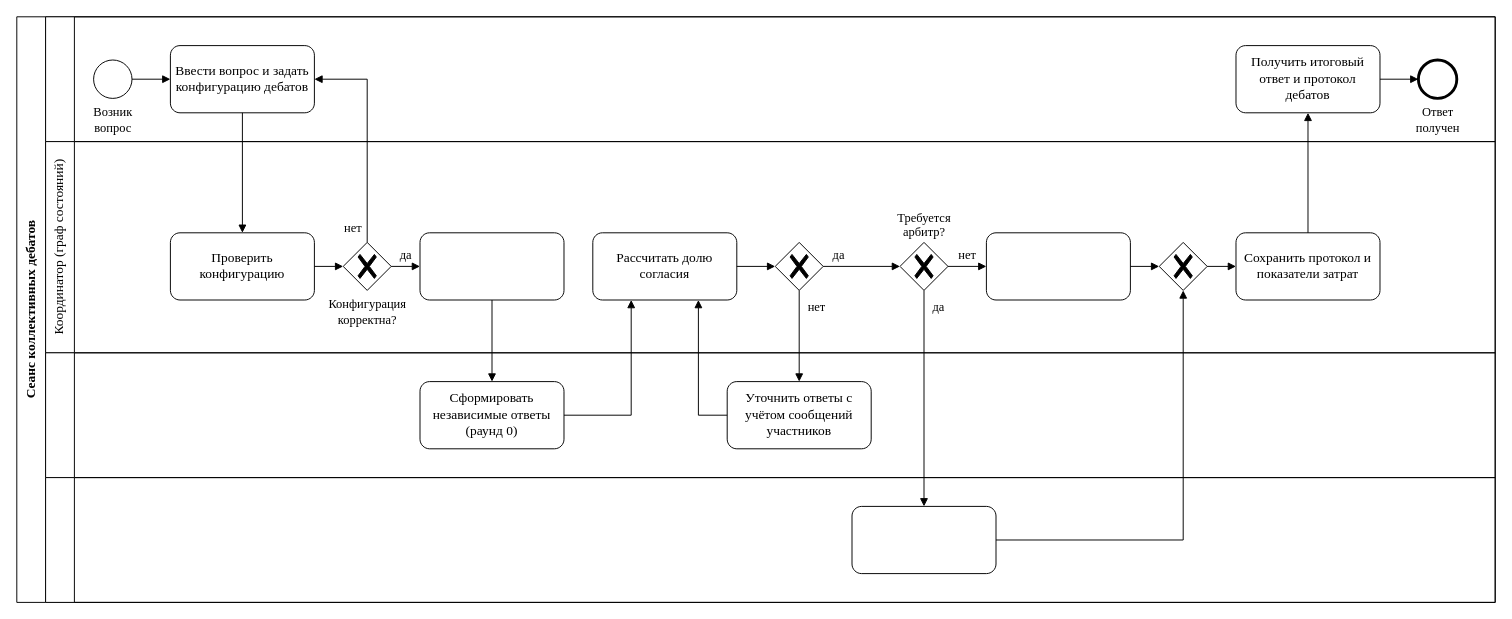
Some shapes in this 1512 by 619 pixel diagram are drawn without their labels. The shapes that lost their labels are listed below. From the top down, each one's box as (x1, y1, x2, y2) in pixels, then its label:
(45, 16, 1495, 142): Пользователь
(419, 232, 564, 300): Создать агентов и начальное состояние
(774, 241, 823, 290): Согласие или лимит раундов?
(985, 232, 1130, 300): Определить ответ голосованием
(45, 352, 1495, 478): Агенты-участники
(45, 477, 1495, 602): Арбитр
(851, 505, 996, 574): Выбрать наиболее обоснованный ответ
